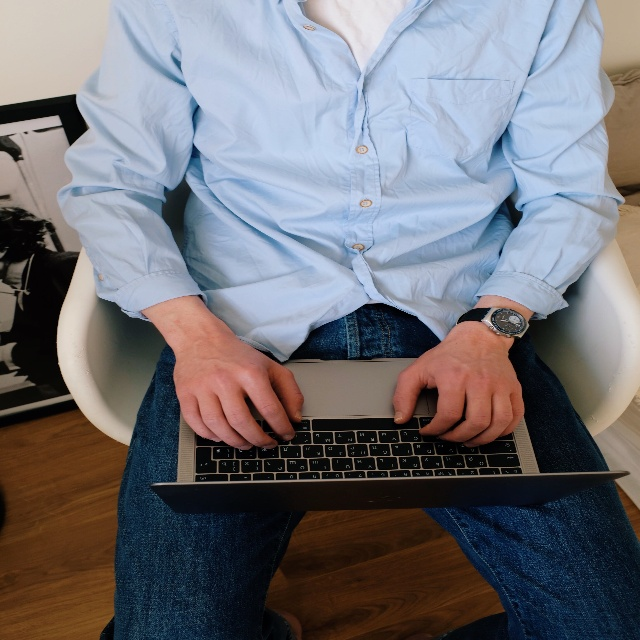Sin_guantes: (391, 318, 525, 449), (172, 328, 305, 451)
